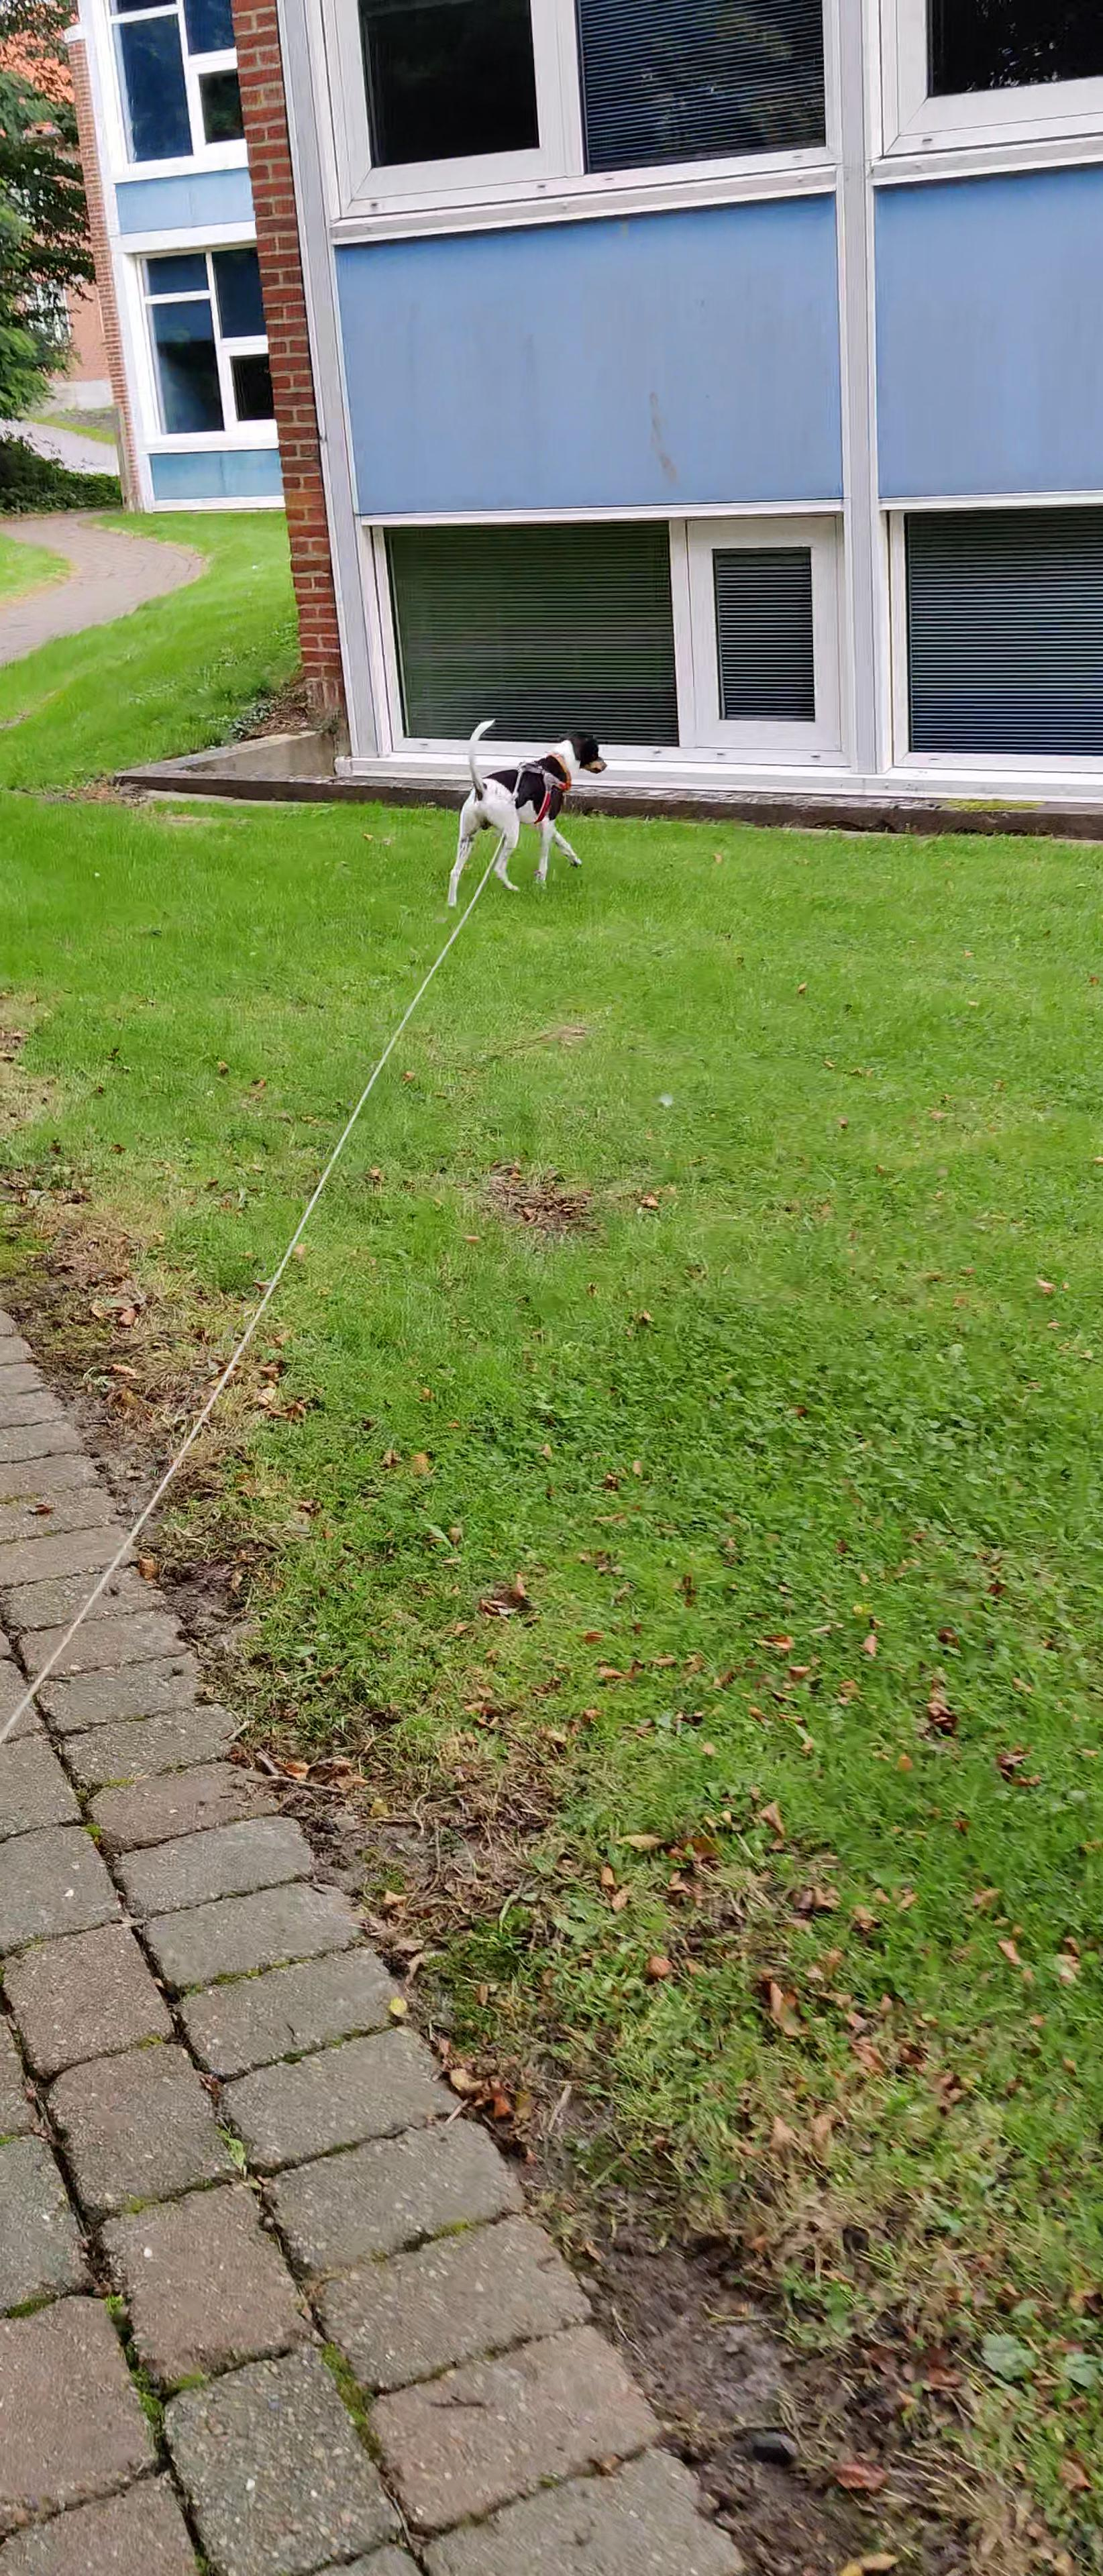Dog: (429, 716, 621, 910)
